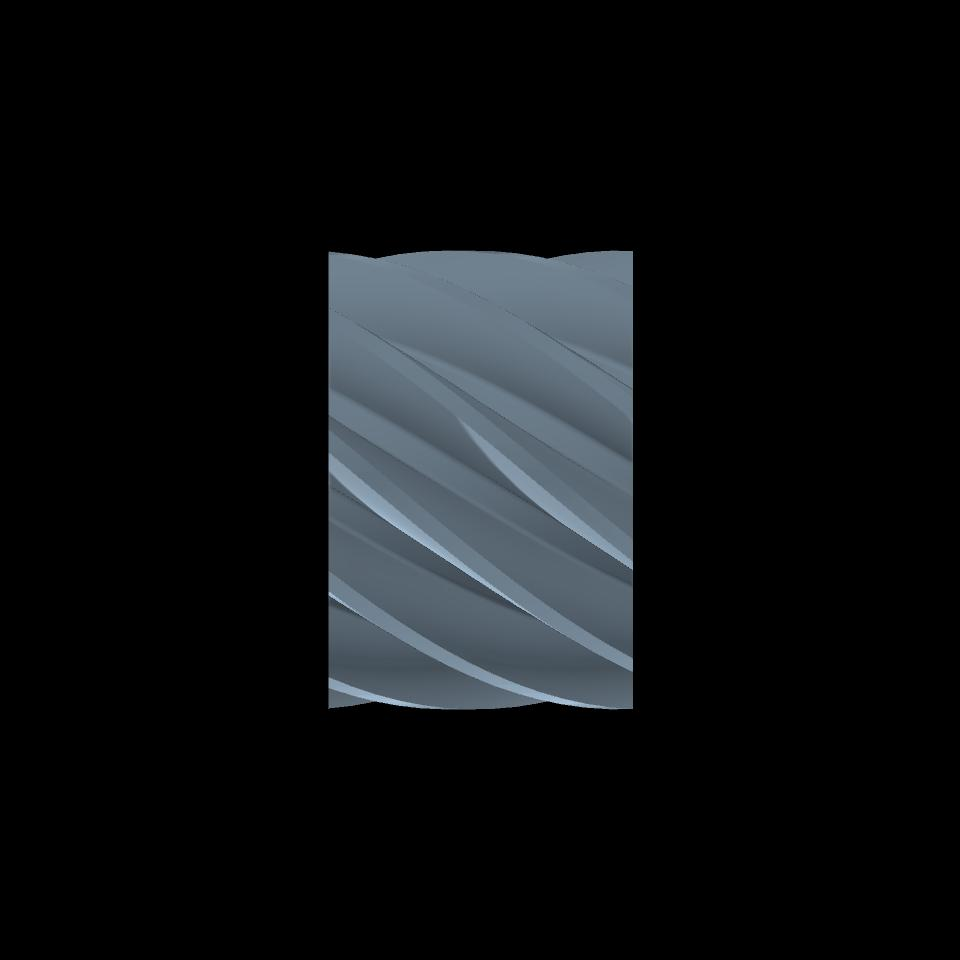Helical: (328, 249, 631, 709)
